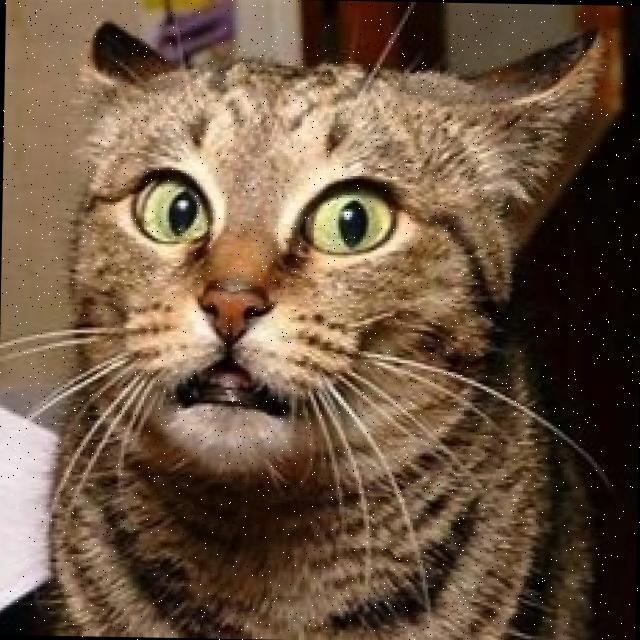Surprised: (100, 138, 448, 480)
